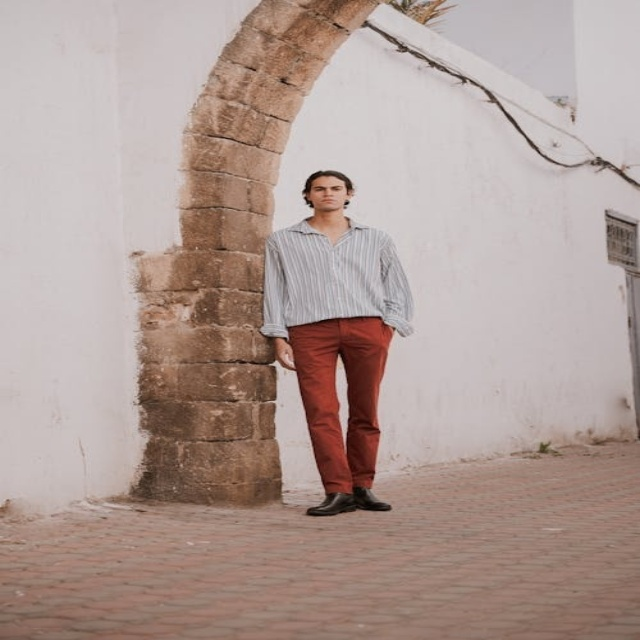Sin_gafas: (310, 180, 344, 193)
Sin_guantes: (271, 337, 300, 373)
Sin_mascara: (316, 197, 337, 207)
